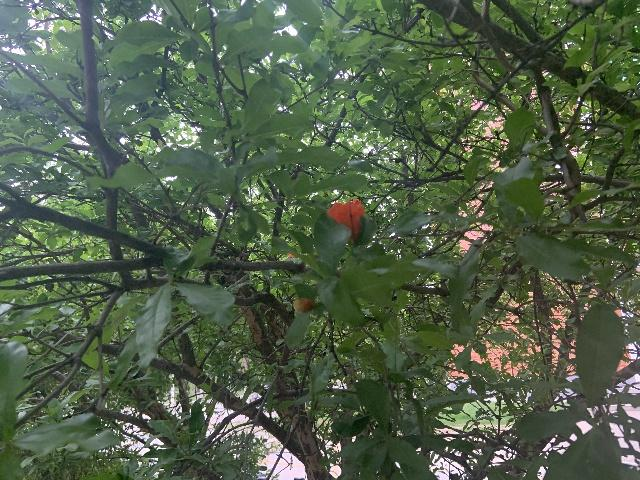bud: (293, 298, 316, 312)
flower: (326, 198, 366, 243)
